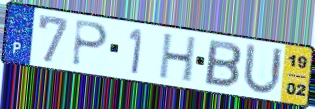1: (127, 27, 144, 77)
7: (36, 12, 70, 65)
B: (202, 37, 244, 91)
H: (156, 32, 199, 85)
P: (69, 17, 111, 69)
U: (240, 41, 285, 97)
